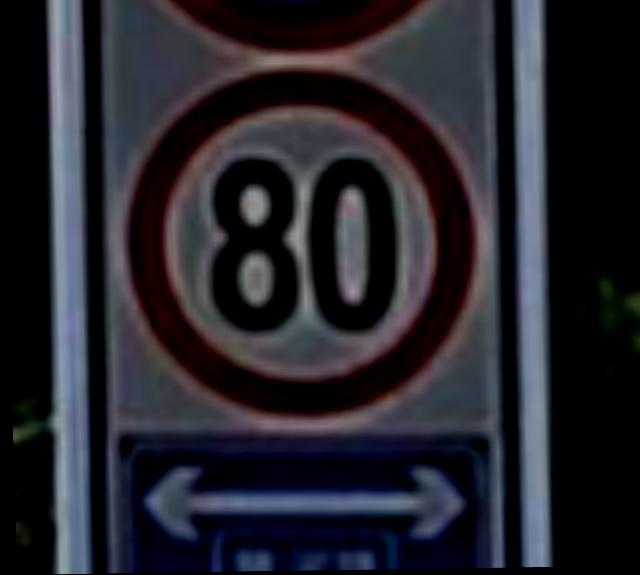limit80: (95, 56, 490, 427)
